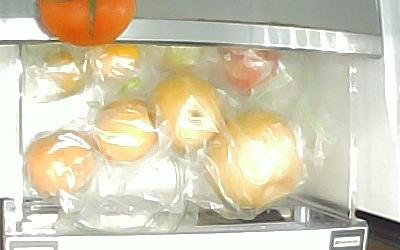peach_vinyl: (24, 128, 97, 194), (95, 100, 159, 161)
pear_vinyl: (205, 108, 303, 205), (148, 71, 221, 150)
tangerine_vinyl: (40, 47, 85, 95), (87, 43, 140, 76)
tomato_vinyl: (218, 48, 279, 88), (156, 44, 206, 67)
